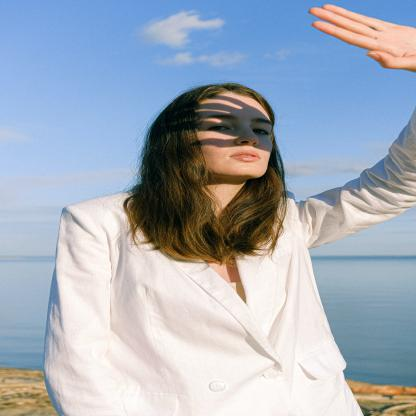Eye: (206, 121, 232, 134), (251, 126, 273, 138)
Mouth: (225, 146, 262, 163)
Nose: (233, 130, 259, 147)
